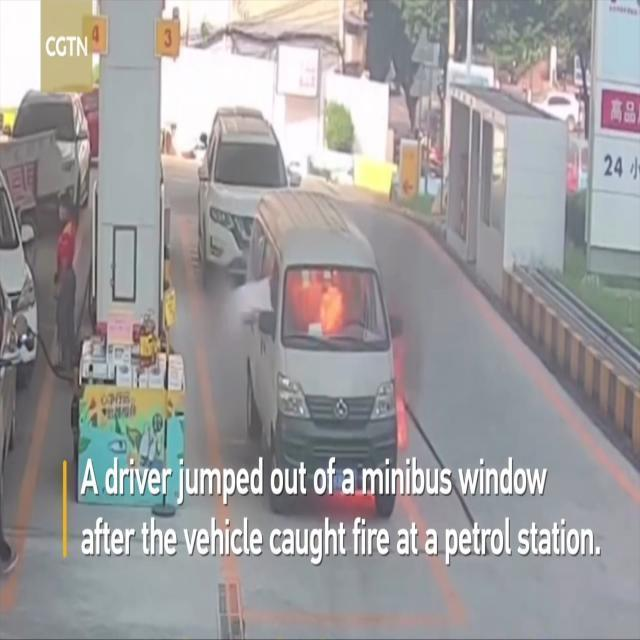fire: (286, 270, 358, 340), (392, 332, 409, 448), (310, 488, 379, 516)
